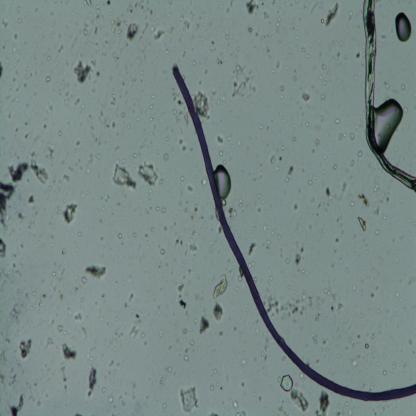Air bubble: (374, 98, 405, 150), (214, 164, 233, 198), (395, 11, 413, 44)
Background material: (264, 289, 310, 320), (29, 148, 52, 186), (0, 182, 17, 230), (232, 62, 252, 100), (176, 386, 200, 412), (58, 79, 81, 106), (112, 164, 137, 188), (137, 161, 160, 187), (5, 303, 24, 334), (72, 57, 92, 84), (84, 260, 107, 282), (8, 161, 30, 184), (194, 90, 212, 118), (7, 392, 26, 415), (291, 391, 310, 412), (212, 274, 228, 298), (314, 390, 330, 414), (64, 199, 78, 226), (324, 2, 339, 27), (87, 365, 97, 402), (60, 340, 78, 360), (373, 196, 390, 216), (124, 22, 141, 42), (18, 338, 33, 360), (104, 359, 119, 381), (333, 182, 349, 202), (260, 336, 273, 360), (280, 372, 293, 393), (277, 398, 292, 416), (197, 316, 211, 335), (110, 15, 122, 35), (213, 302, 224, 323), (98, 109, 110, 128), (7, 263, 20, 280), (357, 193, 370, 208), (60, 368, 68, 392), (112, 326, 124, 342), (245, 0, 257, 16), (357, 216, 368, 233), (6, 373, 19, 387), (298, 45, 310, 60), (171, 91, 183, 106), (0, 237, 8, 259), (285, 164, 294, 183), (140, 21, 149, 40), (153, 27, 165, 41), (247, 241, 256, 258), (228, 204, 237, 221), (135, 0, 151, 9), (356, 351, 368, 363), (178, 138, 187, 153), (86, 152, 92, 174), (300, 90, 311, 102), (350, 356, 359, 370), (292, 68, 299, 86), (45, 334, 54, 348), (94, 134, 104, 146), (193, 292, 205, 302), (73, 311, 83, 323), (182, 21, 192, 33), (18, 208, 27, 221), (129, 327, 138, 340), (309, 1, 318, 14), (82, 21, 90, 35), (20, 129, 30, 140), (323, 287, 333, 298), (98, 193, 109, 203), (214, 133, 224, 144), (178, 298, 188, 309), (27, 193, 36, 205), (118, 395, 127, 407), (192, 204, 198, 222), (0, 372, 6, 390), (111, 49, 120, 61), (157, 372, 164, 387), (86, 115, 94, 128), (180, 326, 190, 336), (320, 75, 329, 86), (23, 69, 32, 80), (348, 335, 357, 346), (315, 310, 322, 324), (48, 146, 55, 160), (274, 59, 282, 71), (262, 364, 270, 376), (56, 44, 64, 56), (311, 332, 319, 344), (316, 199, 324, 211), (324, 186, 332, 198), (109, 93, 116, 106), (348, 131, 358, 140), (189, 244, 198, 254), (269, 156, 278, 166), (11, 46, 21, 55), (285, 0, 294, 10), (176, 282, 185, 292), (179, 190, 183, 212), (247, 261, 255, 272), (166, 25, 174, 36), (320, 63, 328, 74), (264, 240, 272, 251), (1, 270, 8, 282), (337, 132, 346, 141), (184, 265, 193, 274), (184, 184, 194, 192), (209, 238, 217, 248), (262, 224, 272, 232), (336, 254, 344, 264), (108, 395, 116, 405), (346, 10, 354, 20), (276, 84, 286, 92), (74, 157, 82, 167), (336, 49, 344, 59), (294, 254, 301, 265), (127, 294, 135, 303), (181, 114, 190, 122), (127, 5, 135, 14), (2, 38, 8, 50), (335, 303, 343, 312), (84, 0, 93, 8), (0, 61, 4, 79), (379, 33, 388, 41), (346, 407, 355, 415), (56, 264, 63, 274), (149, 111, 156, 121), (190, 228, 195, 242), (335, 216, 345, 223), (129, 380, 136, 390), (254, 28, 261, 38), (111, 119, 117, 130), (146, 189, 152, 200), (2, 18, 8, 29), (210, 39, 216, 50), (29, 303, 37, 311), (158, 178, 166, 186), (118, 78, 126, 86), (408, 278, 416, 286), (114, 144, 122, 152), (354, 50, 362, 58), (274, 20, 282, 28), (252, 355, 260, 363), (57, 324, 64, 333), (159, 247, 166, 256), (14, 359, 21, 368), (45, 74, 52, 83), (325, 202, 331, 212), (94, 25, 100, 35), (212, 258, 218, 268), (292, 202, 298, 212), (278, 247, 283, 259), (264, 11, 270, 21), (96, 4, 102, 14), (170, 144, 175, 156), (182, 48, 188, 58), (115, 230, 122, 238), (99, 386, 106, 394), (209, 384, 216, 392), (338, 40, 346, 47), (161, 206, 168, 214), (63, 174, 70, 182), (216, 57, 223, 65), (351, 284, 358, 292), (384, 82, 391, 90), (74, 139, 82, 146), (255, 192, 263, 199), (373, 184, 380, 192), (204, 65, 209, 76), (237, 198, 242, 209), (212, 368, 218, 377), (129, 78, 138, 84), (134, 314, 140, 323), (160, 402, 166, 411), (330, 303, 335, 313), (64, 22, 69, 32), (369, 382, 374, 392), (184, 347, 191, 354), (77, 231, 84, 238), (382, 368, 389, 375), (220, 198, 227, 205), (351, 233, 358, 240), (394, 291, 401, 298), (371, 409, 378, 416), (4, 339, 11, 346), (349, 200, 356, 207), (45, 55, 52, 62), (189, 10, 195, 18), (163, 224, 169, 232), (314, 138, 320, 146), (247, 26, 253, 34), (217, 224, 221, 236), (189, 338, 195, 346), (92, 300, 98, 308), (254, 326, 260, 334), (292, 136, 298, 144), (364, 342, 370, 350), (36, 400, 42, 408), (143, 106, 149, 114), (96, 15, 102, 23), (68, 166, 74, 174), (358, 290, 364, 298), (81, 277, 87, 285), (164, 365, 172, 371), (208, 212, 214, 220), (336, 408, 342, 416), (184, 198, 190, 206), (158, 330, 164, 338), (140, 332, 146, 340), (302, 121, 308, 129), (258, 171, 264, 179), (370, 332, 376, 340), (153, 18, 159, 26), (128, 200, 134, 208), (237, 138, 243, 146), (392, 360, 398, 368), (251, 84, 257, 92), (225, 28, 229, 40), (210, 411, 219, 416), (350, 158, 355, 167), (233, 400, 238, 409), (313, 358, 320, 364), (95, 70, 101, 77), (129, 106, 135, 113), (309, 223, 315, 230), (271, 0, 277, 7), (311, 147, 317, 154), (236, 275, 242, 282), (382, 214, 388, 221), (0, 5, 6, 12), (131, 152, 137, 159), (138, 69, 144, 76), (72, 287, 78, 294), (57, 129, 63, 136), (252, 276, 259, 282), (275, 165, 282, 171), (172, 108, 178, 115), (358, 311, 364, 318), (235, 45, 241, 52), (202, 180, 209, 186), (28, 394, 34, 401), (207, 20, 214, 26), (175, 115, 181, 122), (312, 173, 318, 180), (276, 375, 282, 382), (225, 404, 231, 411), (255, 208, 262, 214), (181, 272, 186, 280), (236, 411, 244, 416), (145, 232, 150, 240), (164, 154, 169, 162), (142, 54, 147, 62), (194, 22, 199, 30), (401, 84, 406, 92), (13, 32, 18, 40), (92, 58, 96, 68), (52, 270, 57, 278), (165, 46, 170, 54), (310, 194, 314, 204), (150, 224, 155, 232), (35, 244, 43, 249), (361, 236, 366, 244), (32, 289, 37, 297), (285, 258, 290, 266), (343, 53, 348, 61), (189, 147, 194, 155), (174, 238, 179, 246), (50, 9, 55, 17), (329, 262, 335, 268), (156, 149, 160, 158), (50, 318, 56, 324), (308, 180, 314, 186), (332, 154, 338, 160), (234, 286, 240, 292), (218, 330, 224, 336), (254, 319, 260, 325), (184, 355, 190, 361), (75, 412, 84, 416), (228, 154, 234, 160), (229, 0, 233, 9), (115, 200, 121, 206), (48, 233, 54, 239), (314, 88, 320, 94), (322, 339, 328, 345), (258, 124, 264, 130), (168, 0, 174, 6), (300, 167, 306, 173), (120, 112, 126, 118), (334, 118, 340, 124), (334, 237, 340, 243), (16, 288, 22, 294), (320, 115, 325, 122), (353, 74, 358, 81), (323, 154, 328, 161), (120, 213, 125, 220), (197, 79, 204, 84), (232, 325, 237, 332), (260, 1, 265, 8), (303, 30, 310, 35), (266, 46, 271, 53), (240, 380, 245, 387), (280, 118, 287, 123), (263, 210, 268, 217), (270, 230, 277, 235), (376, 308, 380, 316), (99, 216, 103, 224), (229, 266, 233, 274), (178, 238, 182, 246), (168, 346, 172, 354), (282, 354, 286, 362), (233, 54, 237, 62), (150, 24, 154, 32), (358, 150, 362, 158), (157, 306, 161, 314), (408, 338, 412, 346), (300, 370, 304, 378), (300, 246, 304, 254), (166, 12, 171, 18), (264, 35, 270, 40), (154, 205, 159, 211), (23, 83, 28, 89), (42, 294, 48, 299), (96, 153, 101, 159), (361, 259, 367, 264), (17, 18, 22, 24), (178, 36, 183, 42), (131, 232, 137, 237), (142, 340, 147, 346), (68, 310, 73, 316), (48, 242, 53, 248), (49, 20, 54, 26), (218, 151, 224, 156), (251, 225, 257, 230), (298, 188, 303, 194), (14, 98, 20, 103), (136, 49, 142, 54), (106, 0, 112, 5), (123, 64, 128, 70), (376, 229, 380, 236), (106, 319, 110, 326), (57, 32, 61, 39), (173, 221, 177, 228), (15, 126, 19, 133), (100, 235, 104, 242), (180, 14, 184, 21), (150, 9, 154, 16), (192, 59, 196, 66), (228, 136, 232, 143), (164, 136, 169, 141), (241, 360, 246, 365), (159, 287, 164, 292), (135, 117, 140, 122), (225, 8, 230, 13), (38, 302, 43, 307), (79, 166, 84, 171), (320, 19, 325, 24), (353, 311, 358, 316), (318, 40, 323, 45), (296, 26, 301, 31), (42, 124, 47, 129), (169, 226, 174, 231), (379, 43, 384, 48), (318, 305, 322, 311), (252, 392, 258, 396), (332, 166, 338, 170), (292, 124, 296, 130), (180, 175, 184, 181), (316, 211, 320, 217), (12, 77, 16, 83), (295, 36, 299, 42), (81, 102, 85, 108), (151, 93, 155, 99), (392, 237, 396, 243), (376, 256, 382, 260), (82, 326, 86, 332), (284, 66, 290, 70), (50, 34, 54, 40), (17, 6, 21, 12), (142, 267, 146, 273), (145, 395, 149, 401), (80, 296, 84, 302), (59, 293, 63, 299), (174, 256, 178, 262), (53, 286, 57, 292), (359, 280, 365, 284), (62, 249, 65, 257), (208, 278, 212, 284), (200, 36, 204, 42), (178, 109, 182, 115), (139, 198, 143, 204), (370, 293, 374, 299), (400, 197, 404, 203), (278, 234, 282, 240), (184, 207, 188, 213), (272, 116, 276, 122), (108, 308, 111, 315), (382, 353, 386, 358), (203, 58, 207, 63), (140, 79, 144, 84), (178, 294, 182, 299), (176, 338, 180, 343), (321, 95, 325, 100), (199, 274, 204, 278), (102, 206, 106, 211), (100, 317, 104, 322), (200, 215, 204, 220), (366, 250, 370, 255), (385, 290, 390, 294), (104, 40, 108, 45), (56, 210, 61, 214), (341, 229, 345, 234), (238, 229, 242, 234), (349, 193, 353, 198), (89, 356, 93, 361), (115, 159, 119, 164), (126, 122, 130, 127), (150, 103, 154, 108), (61, 228, 65, 233), (8, 113, 12, 118), (344, 346, 349, 350), (322, 312, 326, 317), (345, 401, 349, 406), (280, 94, 284, 99), (20, 244, 24, 249), (63, 0, 68, 4), (386, 249, 390, 254), (270, 276, 274, 281), (13, 253, 17, 258), (15, 156, 20, 160), (33, 382, 37, 387), (278, 17, 282, 22), (292, 289, 296, 294), (296, 0, 300, 5), (344, 268, 349, 272), (218, 4, 223, 8), (358, 333, 361, 339), (413, 220, 416, 226), (259, 397, 262, 403), (165, 262, 168, 268), (35, 210, 38, 216), (185, 290, 188, 296), (115, 280, 119, 284), (122, 281, 126, 285), (149, 84, 153, 88), (219, 386, 223, 390), (157, 265, 161, 269), (288, 285, 292, 289), (9, 86, 13, 90), (382, 244, 386, 248), (275, 196, 279, 200), (406, 218, 410, 222), (146, 210, 150, 214), (287, 24, 291, 28), (198, 15, 202, 19), (64, 330, 68, 334), (412, 232, 416, 236), (146, 245, 150, 249), (101, 294, 105, 298), (233, 358, 237, 362), (273, 36, 277, 40), (266, 126, 270, 130), (252, 21, 256, 25), (220, 21, 223, 26), (115, 317, 118, 322), (25, 293, 28, 298), (166, 312, 169, 317), (355, 125, 358, 130), (337, 353, 340, 358), (96, 41, 99, 46), (281, 145, 284, 150), (49, 186, 52, 191), (124, 303, 127, 308), (328, 52, 331, 57), (302, 269, 305, 274), (377, 361, 380, 366), (130, 241, 132, 247), (375, 286, 378, 290), (181, 261, 184, 265), (278, 157, 282, 160), (223, 160, 226, 164), (164, 42, 167, 46), (261, 200, 265, 203), (395, 303, 398, 307), (114, 386, 117, 390), (266, 142, 269, 146), (259, 162, 262, 166), (291, 27, 295, 30), (124, 20, 127, 24), (126, 43, 129, 47), (258, 93, 261, 97), (242, 352, 245, 356), (288, 42, 290, 48), (402, 222, 405, 226), (25, 122, 28, 126), (122, 159, 125, 163), (203, 23, 206, 27), (154, 125, 156, 130), (273, 69, 275, 74), (170, 188, 172, 193), (372, 346, 374, 351), (142, 287, 145, 290), (77, 240, 80, 243), (138, 104, 141, 107), (163, 321, 166, 324), (216, 383, 218, 387), (76, 247, 78, 251), (150, 206, 152, 210), (171, 271, 173, 275), (95, 50, 97, 54), (399, 298, 401, 302), (112, 413, 114, 416), (132, 310, 134, 312)
Cellulose filter fibre: (361, 0, 416, 192)
Microfibre: (170, 63, 416, 399)
